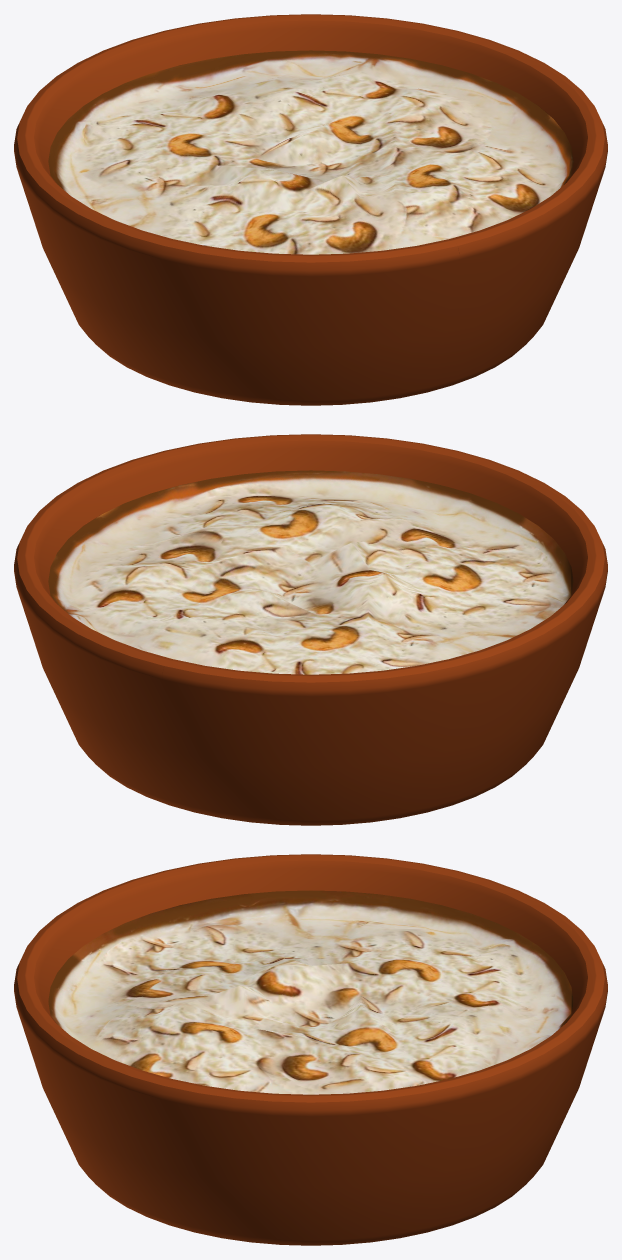
The model's file is Kheer.fbx.
3 views of the same model, one above another, from view 1: azimuth 30°, elevation 25°; view 2: azimuth 150°, elevation 25°; view 3: azimuth 270°, elevation 25° (orthographic).
Parts seen in each view (by area): view 1: pDisc1; view 2: pDisc1; view 3: pDisc1.
Boxes of the visible parts, left/top/right/bottom form: pDisc1: left=14, top=14, right=607, bottom=405; pDisc1: left=14, top=434, right=607, bottom=825; pDisc1: left=14, top=854, right=607, bottom=1245.
Size of the model in its own units: 14.3 by 4.66 by 14.3.
Materials: 1 (1 with a texture image).
